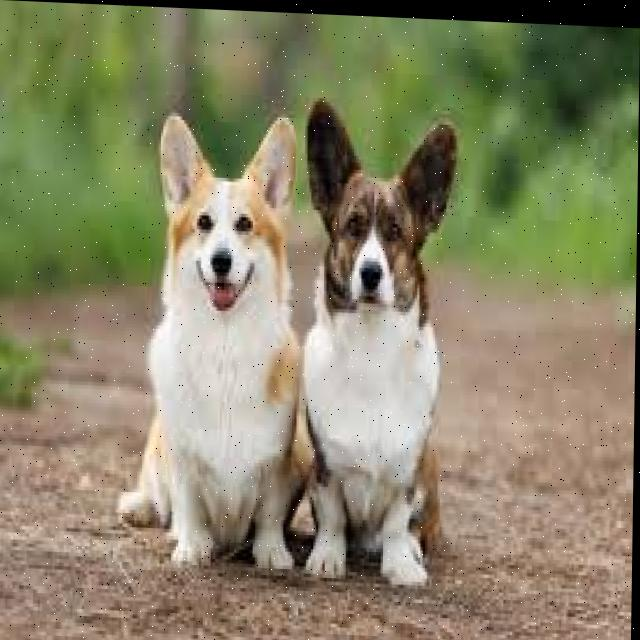CORGI: (273, 89, 491, 622), (123, 94, 304, 598)
